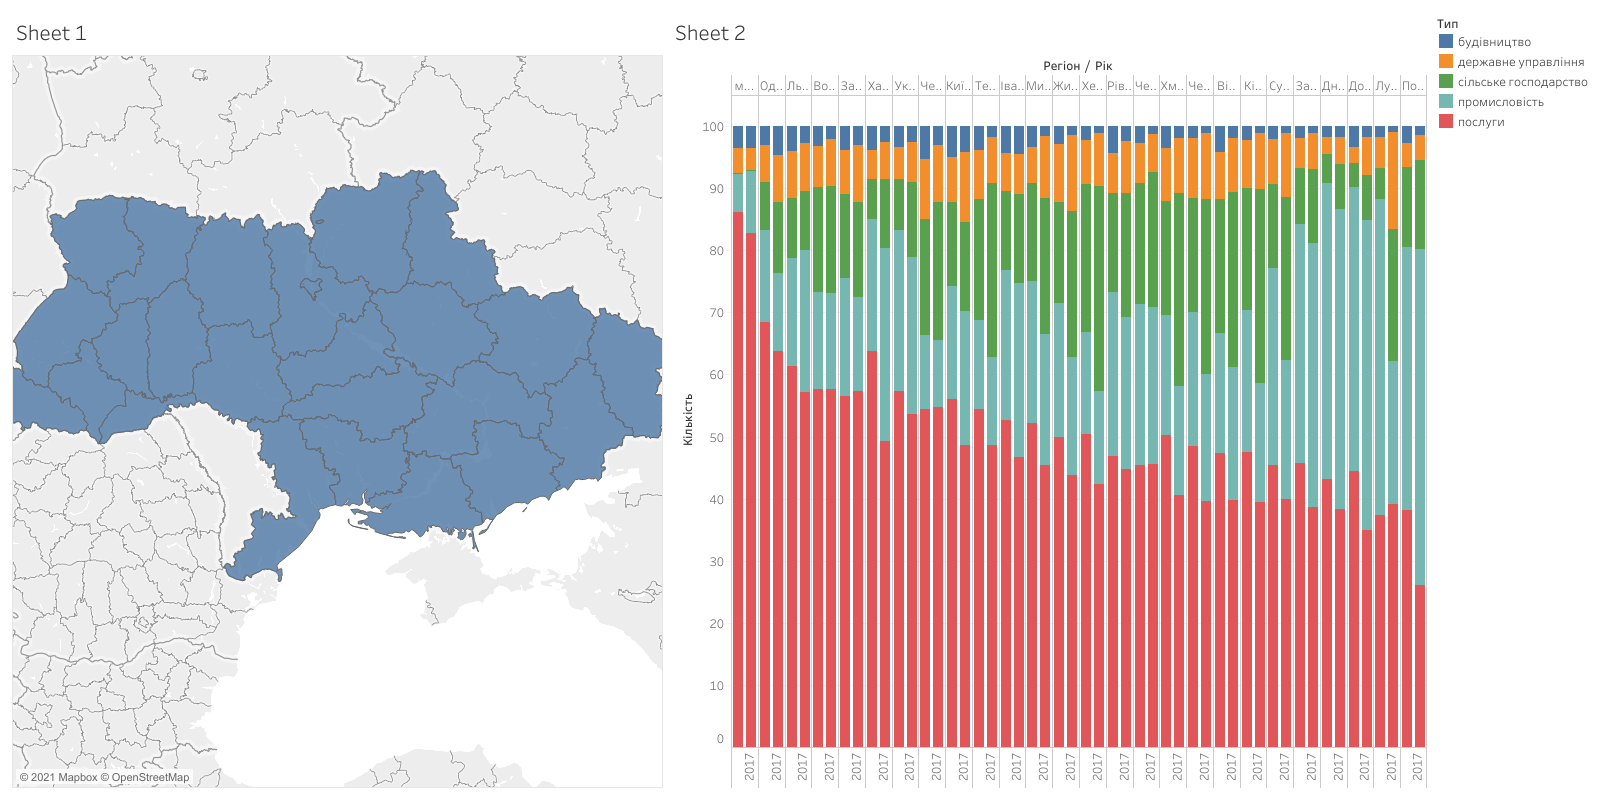

This screenshot's page, from the dashboard's own definition file:
{"tool":"tableau","page":{"name":"Dashboard 1","canvas":[1600,800],"ordinal":0},"visuals":[{"type":"worksheet","title":"Sheet 1","mark":"Multipolygon","box":[8,8,659,784]},{"type":"worksheet","title":"Sheet 2","mark":"Bar","rows":["кількість"],"cols":["регіон","рік"],"box":[667,8,765,784]},{"type":"legend","title":"Sheet 2","param":"[federated.02fjs6z1skt3q119shs4v1us3ad7].[none:тип:nk]","box":[1432,8,160,126]}]}

Visuals, with their boxes in screenshot pixels (x1, y1, x2, y2), scaled from the page's 1600x800 canvas onto the 1599x799 screenshot:
"Sheet 1" worksheet (Multipolygon marks): {"x1": 8, "y1": 8, "x2": 667, "y2": 791}
"Sheet 2" worksheet (Bar marks): {"x1": 667, "y1": 8, "x2": 1431, "y2": 791}
"Sheet 2" legend: {"x1": 1431, "y1": 8, "x2": 1591, "y2": 134}
